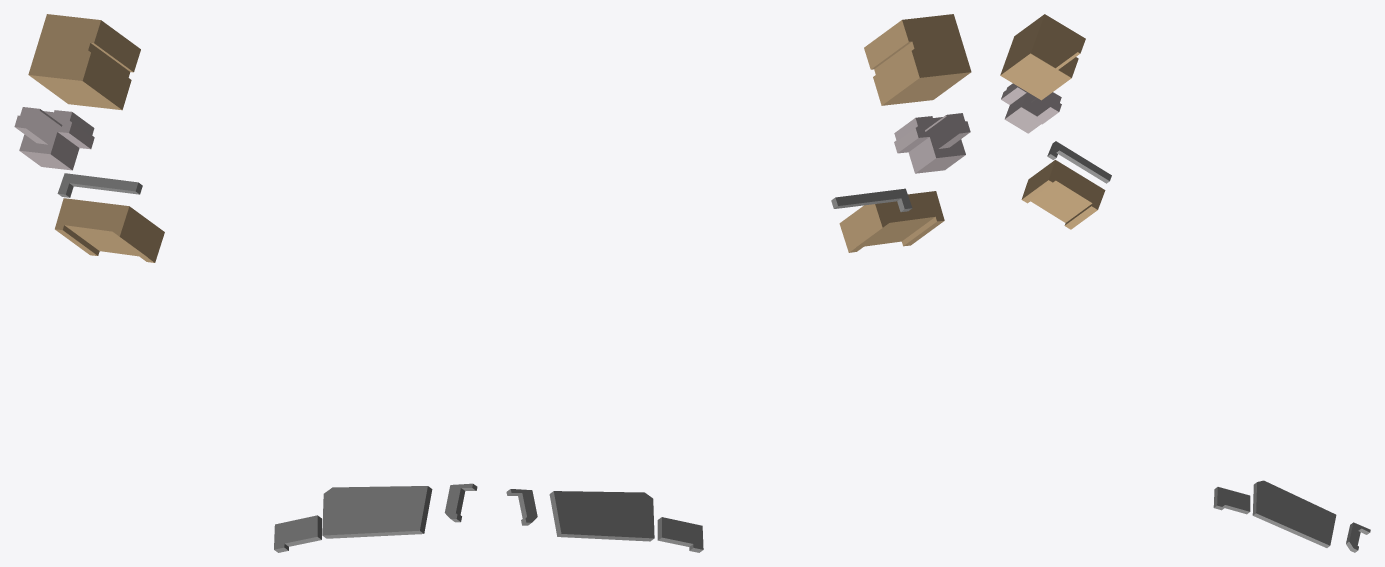
3 views of the same model, side by side, from view 1: azimuth 30°, elevation 25°; view 2: azimuth 150°, elevation 25°; view 3: azimuth 330°, elevation 25° (orthographic). The views are drawn at different scales.
Parts seen in each view (by area): view 1: 0_3_1_3_3_2; view 2: 0_3_1_3_3_2; view 3: 0_3_1_3_3_2.
Part boxes in pixels (x1,y1,x2,y2): 0_3_1_3_3_2: (14,14,477,552); 0_3_1_3_3_2: (506,14,971,552); 0_3_1_3_3_2: (1000,14,1370,552).
Size of the model in its own units: 180 by 227 by 27.9.
